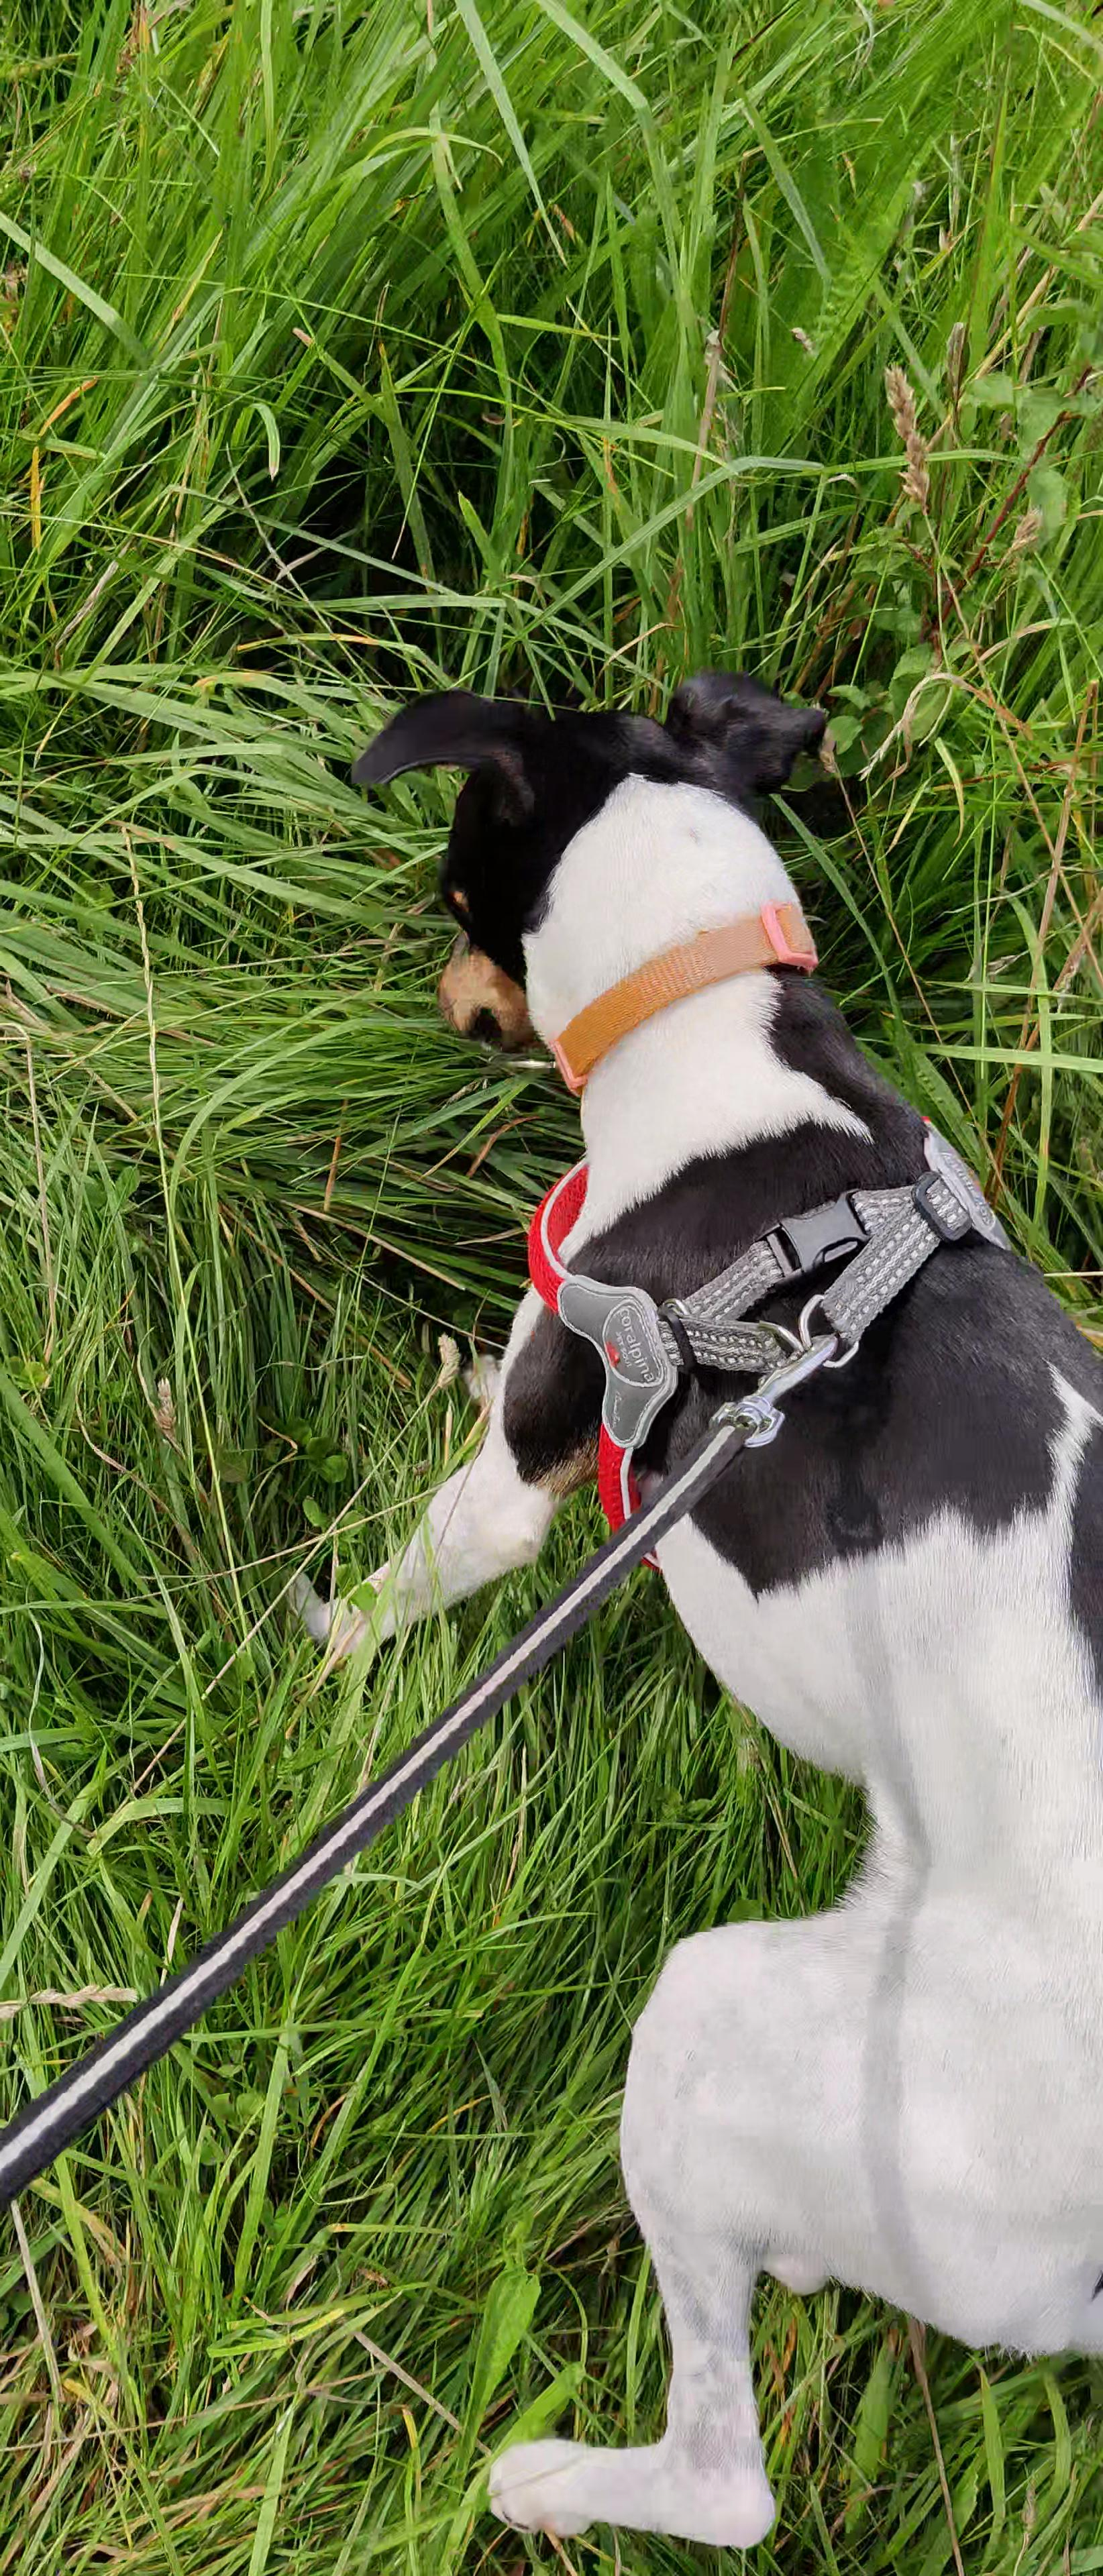Dog: (275, 670, 1103, 2555)
